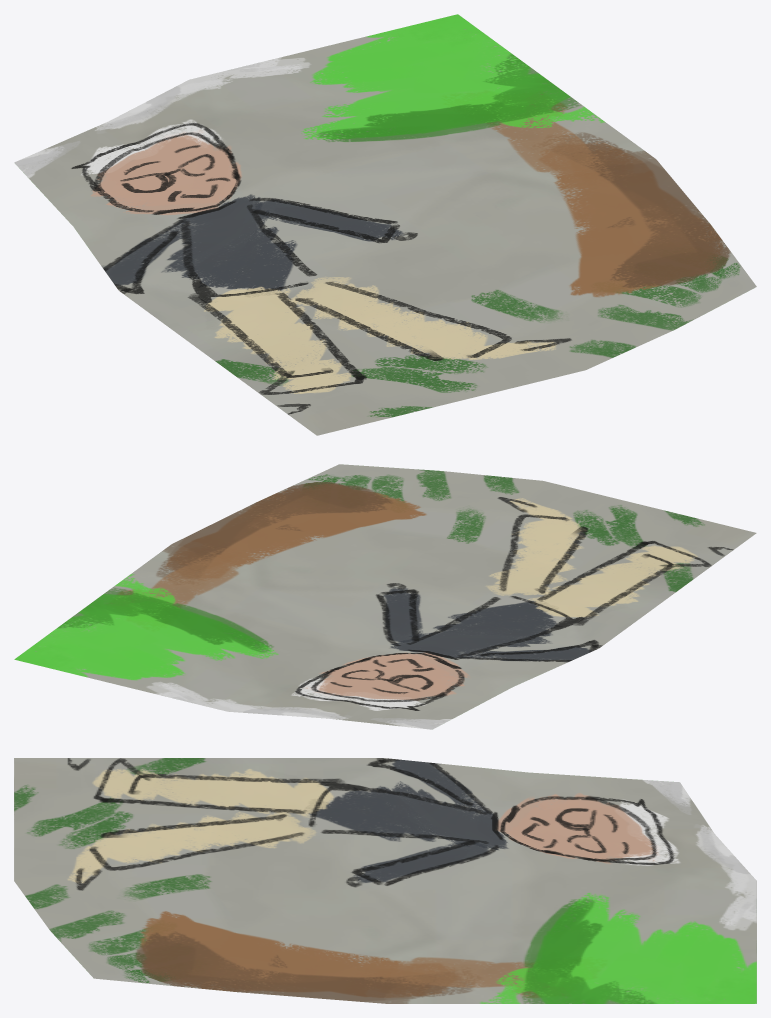
3 renders of one model, top to bottom at view 1: azimuth 30°, elevation 25°; view 2: azimuth 150°, elevation 25°; view 3: azimuth 270°, elevation 25°, orthographic. The views are drawn at different scales.
Parts seen in each view (by area): view 1: 편집4; view 2: 편집4; view 3: 편집4.
Part boxes in pixels (x1=…): 편집4: x1=14, y1=14, x2=756, y2=435; 편집4: x1=14, y1=464, x2=756, y2=729; 편집4: x1=14, y1=758, x2=756, y2=1003.
Bounding box in the file's own units: 61.63 × 78.77 × 0.
Materials: 1 (1 with a texture image).
